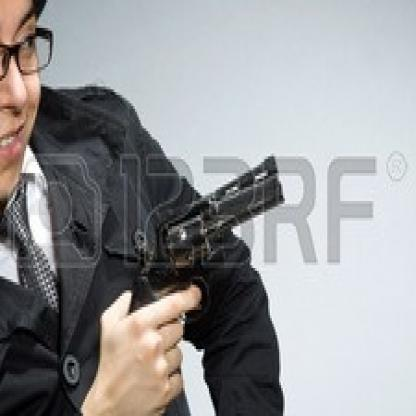gun: (129, 156, 280, 327)
